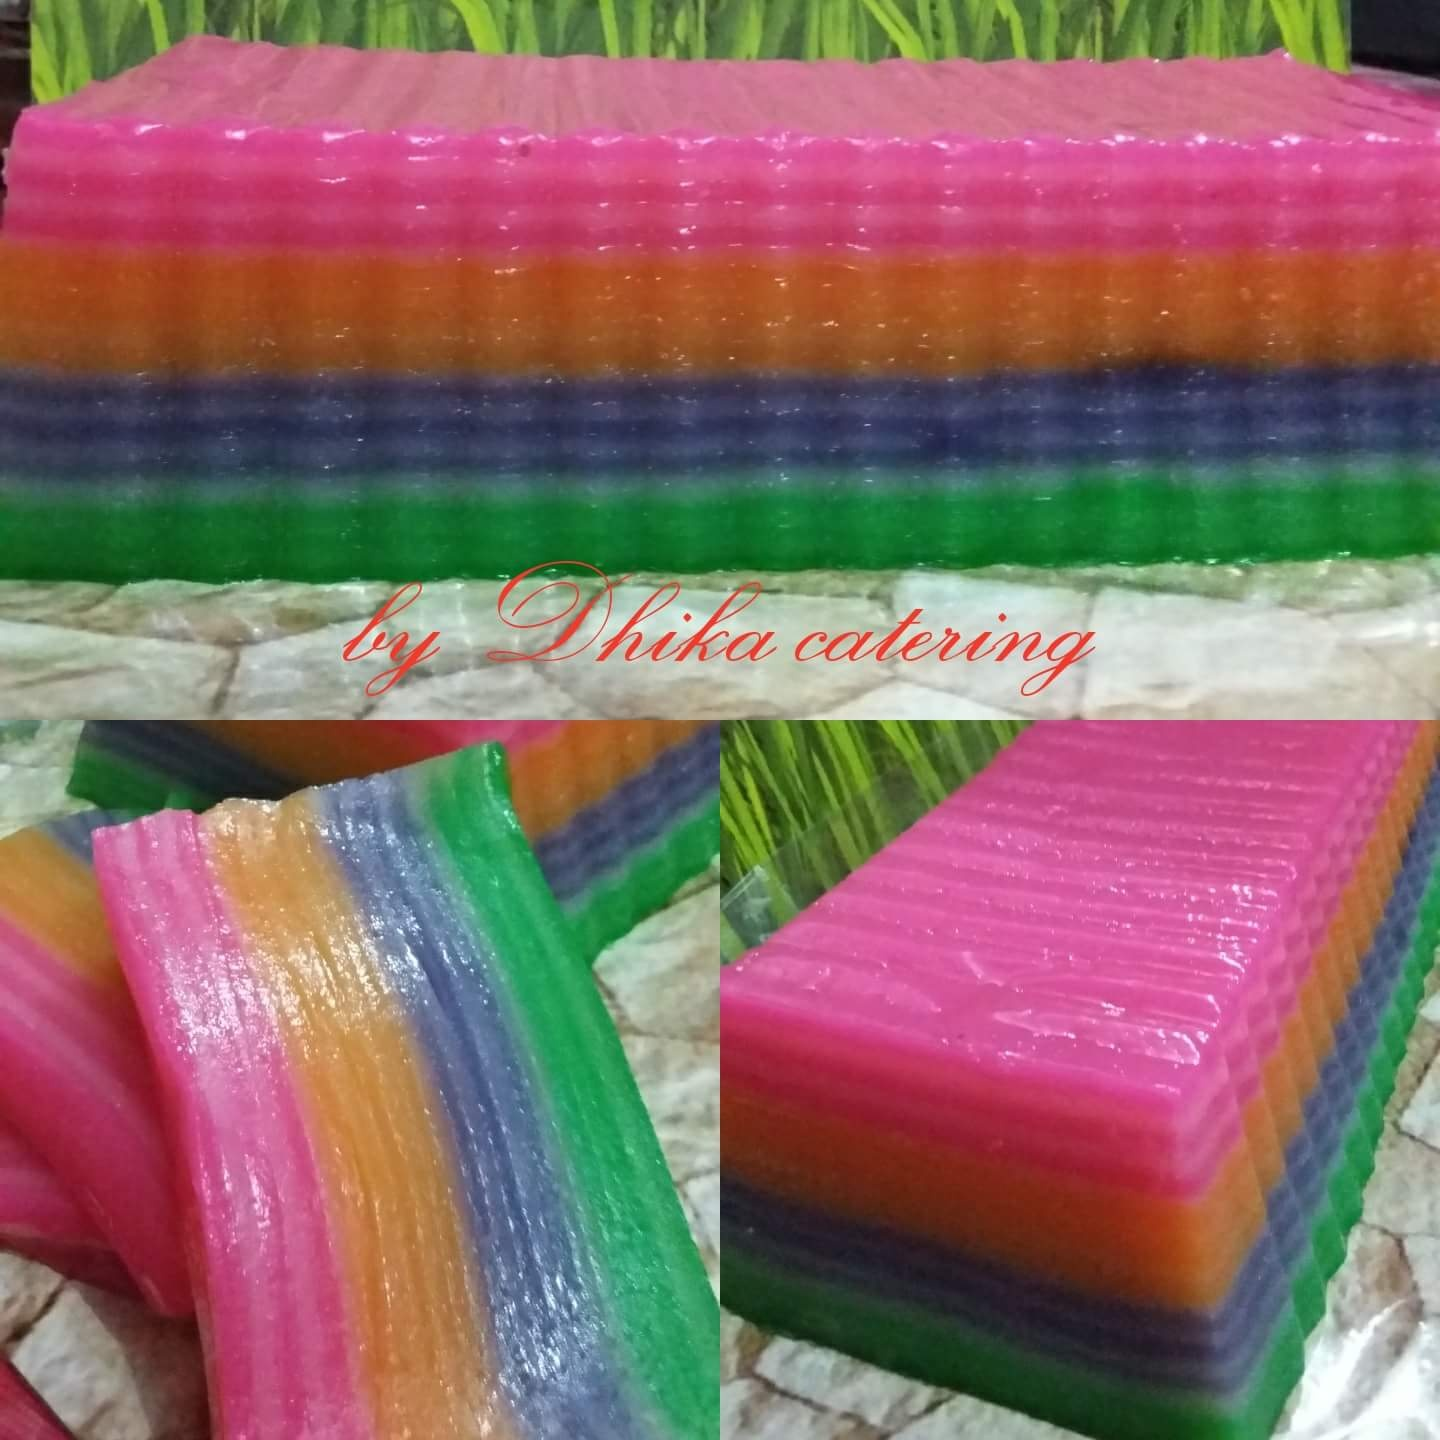kue_lapis_pelangi: (82, 741, 717, 1440), (724, 988, 1308, 1435)
